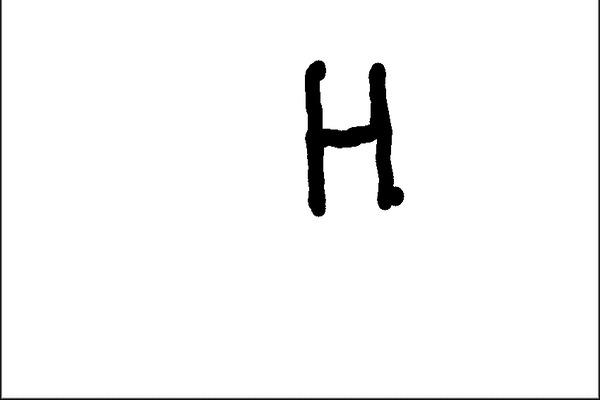H: (294, 49, 414, 216)
